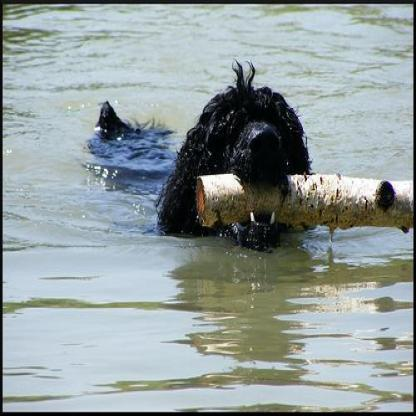standard_poodle: (85, 58, 312, 254)
